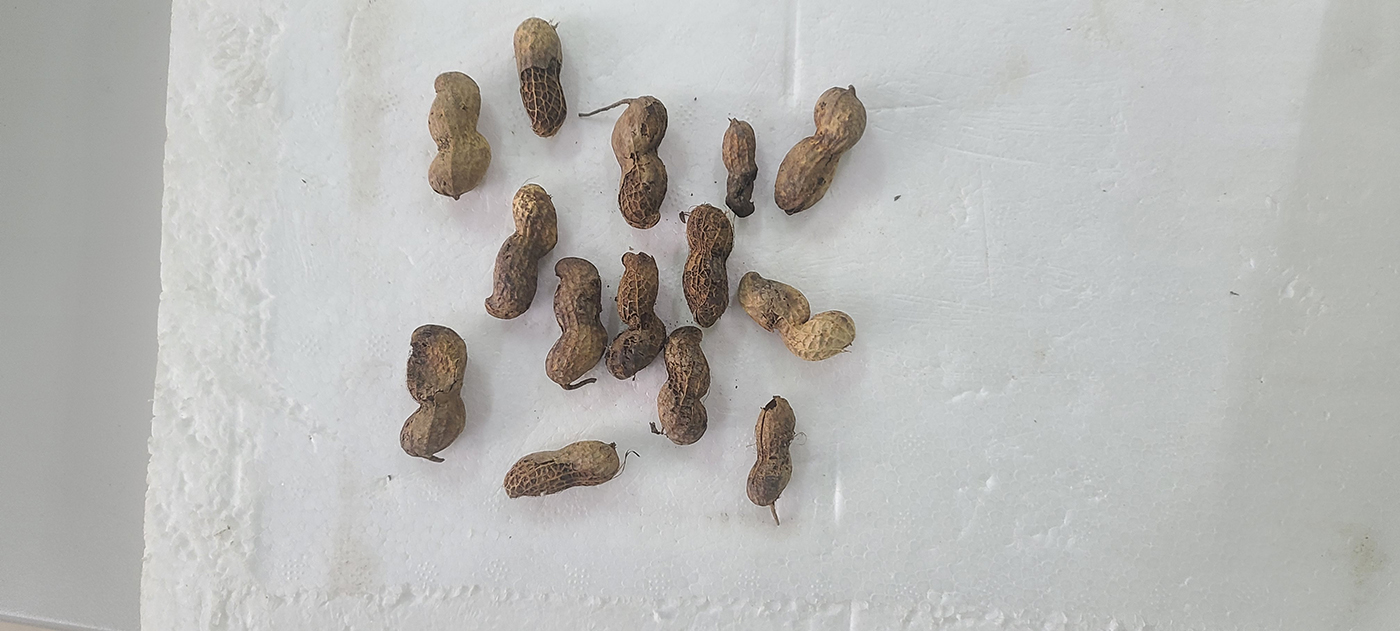l: (774, 88, 866, 214), (740, 270, 855, 360), (484, 182, 558, 319), (399, 324, 467, 457), (426, 69, 491, 198), (544, 257, 607, 385), (611, 96, 669, 231), (606, 253, 666, 381), (502, 439, 621, 498), (512, 17, 567, 137), (657, 325, 711, 444), (682, 203, 734, 326), (745, 394, 797, 506), (722, 119, 759, 216)
